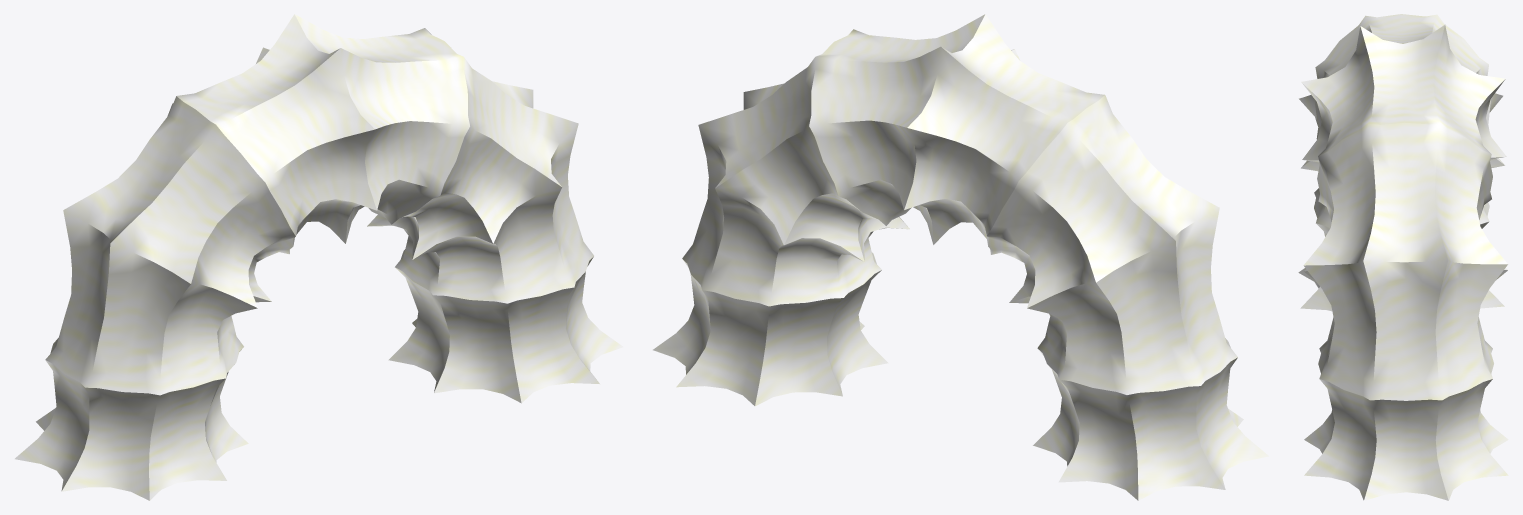
Rendered from Stone.glb.
The picture shows the model from 3 angles, left to right: view 1: azimuth 30°, elevation 25°; view 2: azimuth 150°, elevation 25°; view 3: azimuth 270°, elevation 25°; orthographic projection. The views are drawn at different scales.
Visible parts, largest first — view 1: Stone; view 2: Stone; view 3: Stone.
Boxes of the visible parts, bbox=[...] form: Stone: bbox=[15, 14, 623, 500]; Stone: bbox=[653, 14, 1268, 500]; Stone: bbox=[1298, 14, 1508, 500].
Size of the model in its own units: 63.43 by 40 by 21.81.
1 material, 1 textured.
